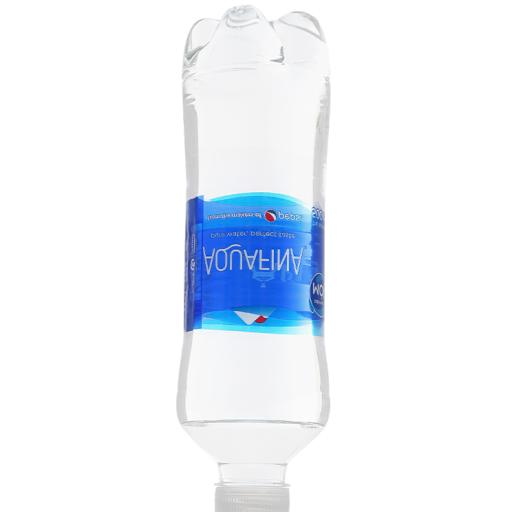bottle: (177, 6, 329, 512)
